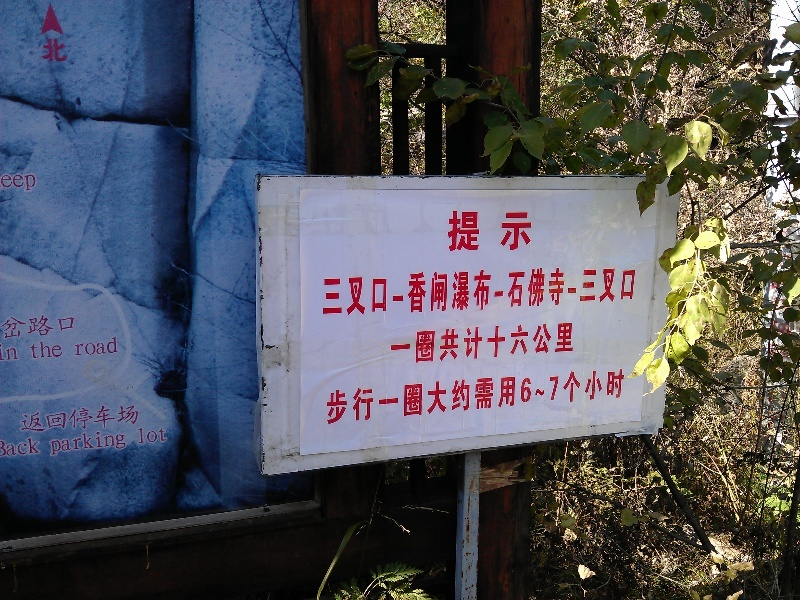text: (337, 367, 352, 425), (353, 367, 368, 425), (369, 367, 384, 425), (385, 367, 400, 425), (401, 367, 416, 425), (417, 367, 432, 425), (433, 367, 448, 425), (449, 367, 464, 425), (465, 367, 480, 425), (481, 367, 496, 425), (497, 367, 512, 425), (513, 367, 528, 425), (529, 367, 544, 425), (545, 367, 560, 425), (561, 367, 576, 425), (577, 367, 592, 425), (593, 367, 608, 425), (609, 367, 624, 425), (337, 265, 352, 321), (353, 265, 368, 321), (369, 265, 384, 321), (385, 265, 400, 321), (401, 265, 416, 321), (417, 265, 432, 321), (433, 265, 448, 321), (449, 265, 464, 321), (465, 265, 480, 321), (481, 265, 496, 321), (497, 265, 512, 321), (513, 265, 528, 321), (529, 265, 544, 321), (545, 265, 560, 321), (561, 265, 576, 321), (577, 265, 592, 321), (593, 265, 608, 321), (609, 265, 624, 321), (323, 265, 336, 321), (625, 265, 638, 321), (401, 322, 416, 365), (417, 322, 432, 365), (433, 322, 448, 365), (449, 322, 464, 365), (465, 322, 480, 365), (481, 322, 496, 365), (497, 322, 512, 365), (513, 322, 528, 365), (529, 322, 544, 365), (545, 322, 560, 365), (449, 212, 464, 251), (465, 212, 480, 251), (481, 212, 496, 251), (497, 212, 512, 251), (513, 212, 528, 251), (561, 322, 574, 365), (327, 367, 336, 425), (33, 403, 48, 435), (49, 403, 64, 435), (65, 403, 80, 435), (81, 403, 96, 435), (97, 403, 112, 435), (113, 403, 128, 435), (1, 309, 16, 341), (17, 309, 32, 341), (33, 309, 48, 341), (49, 309, 64, 341), (49, 428, 64, 459), (65, 428, 80, 459), (81, 428, 96, 459), (97, 428, 112, 459), (113, 428, 128, 459), (19, 403, 32, 435), (391, 322, 400, 365), (65, 309, 77, 341), (49, 38, 64, 62), (129, 403, 140, 435), (1, 437, 16, 459), (17, 437, 32, 459), (33, 339, 48, 361), (49, 339, 64, 361), (81, 337, 96, 358), (97, 337, 112, 358), (1, 342, 16, 362), (1, 174, 16, 192), (17, 174, 32, 192), (145, 428, 160, 445), (33, 437, 40, 459), (113, 337, 120, 358), (42, 38, 48, 62), (161, 428, 169, 445), (137, 428, 144, 445), (529, 212, 532, 251), (75, 337, 80, 358), (65, 38, 68, 62), (33, 174, 37, 192), (29, 339, 32, 361), (17, 342, 20, 362), (625, 367, 626, 425)
